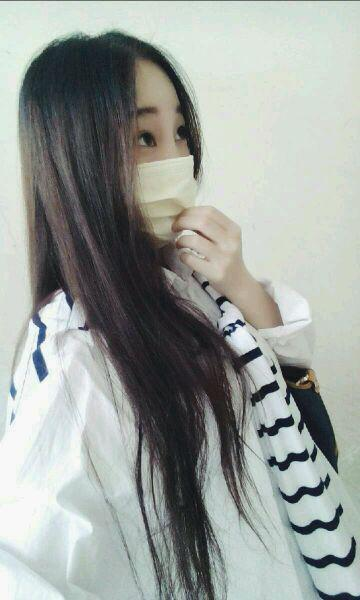OK: (119, 81, 198, 248)
